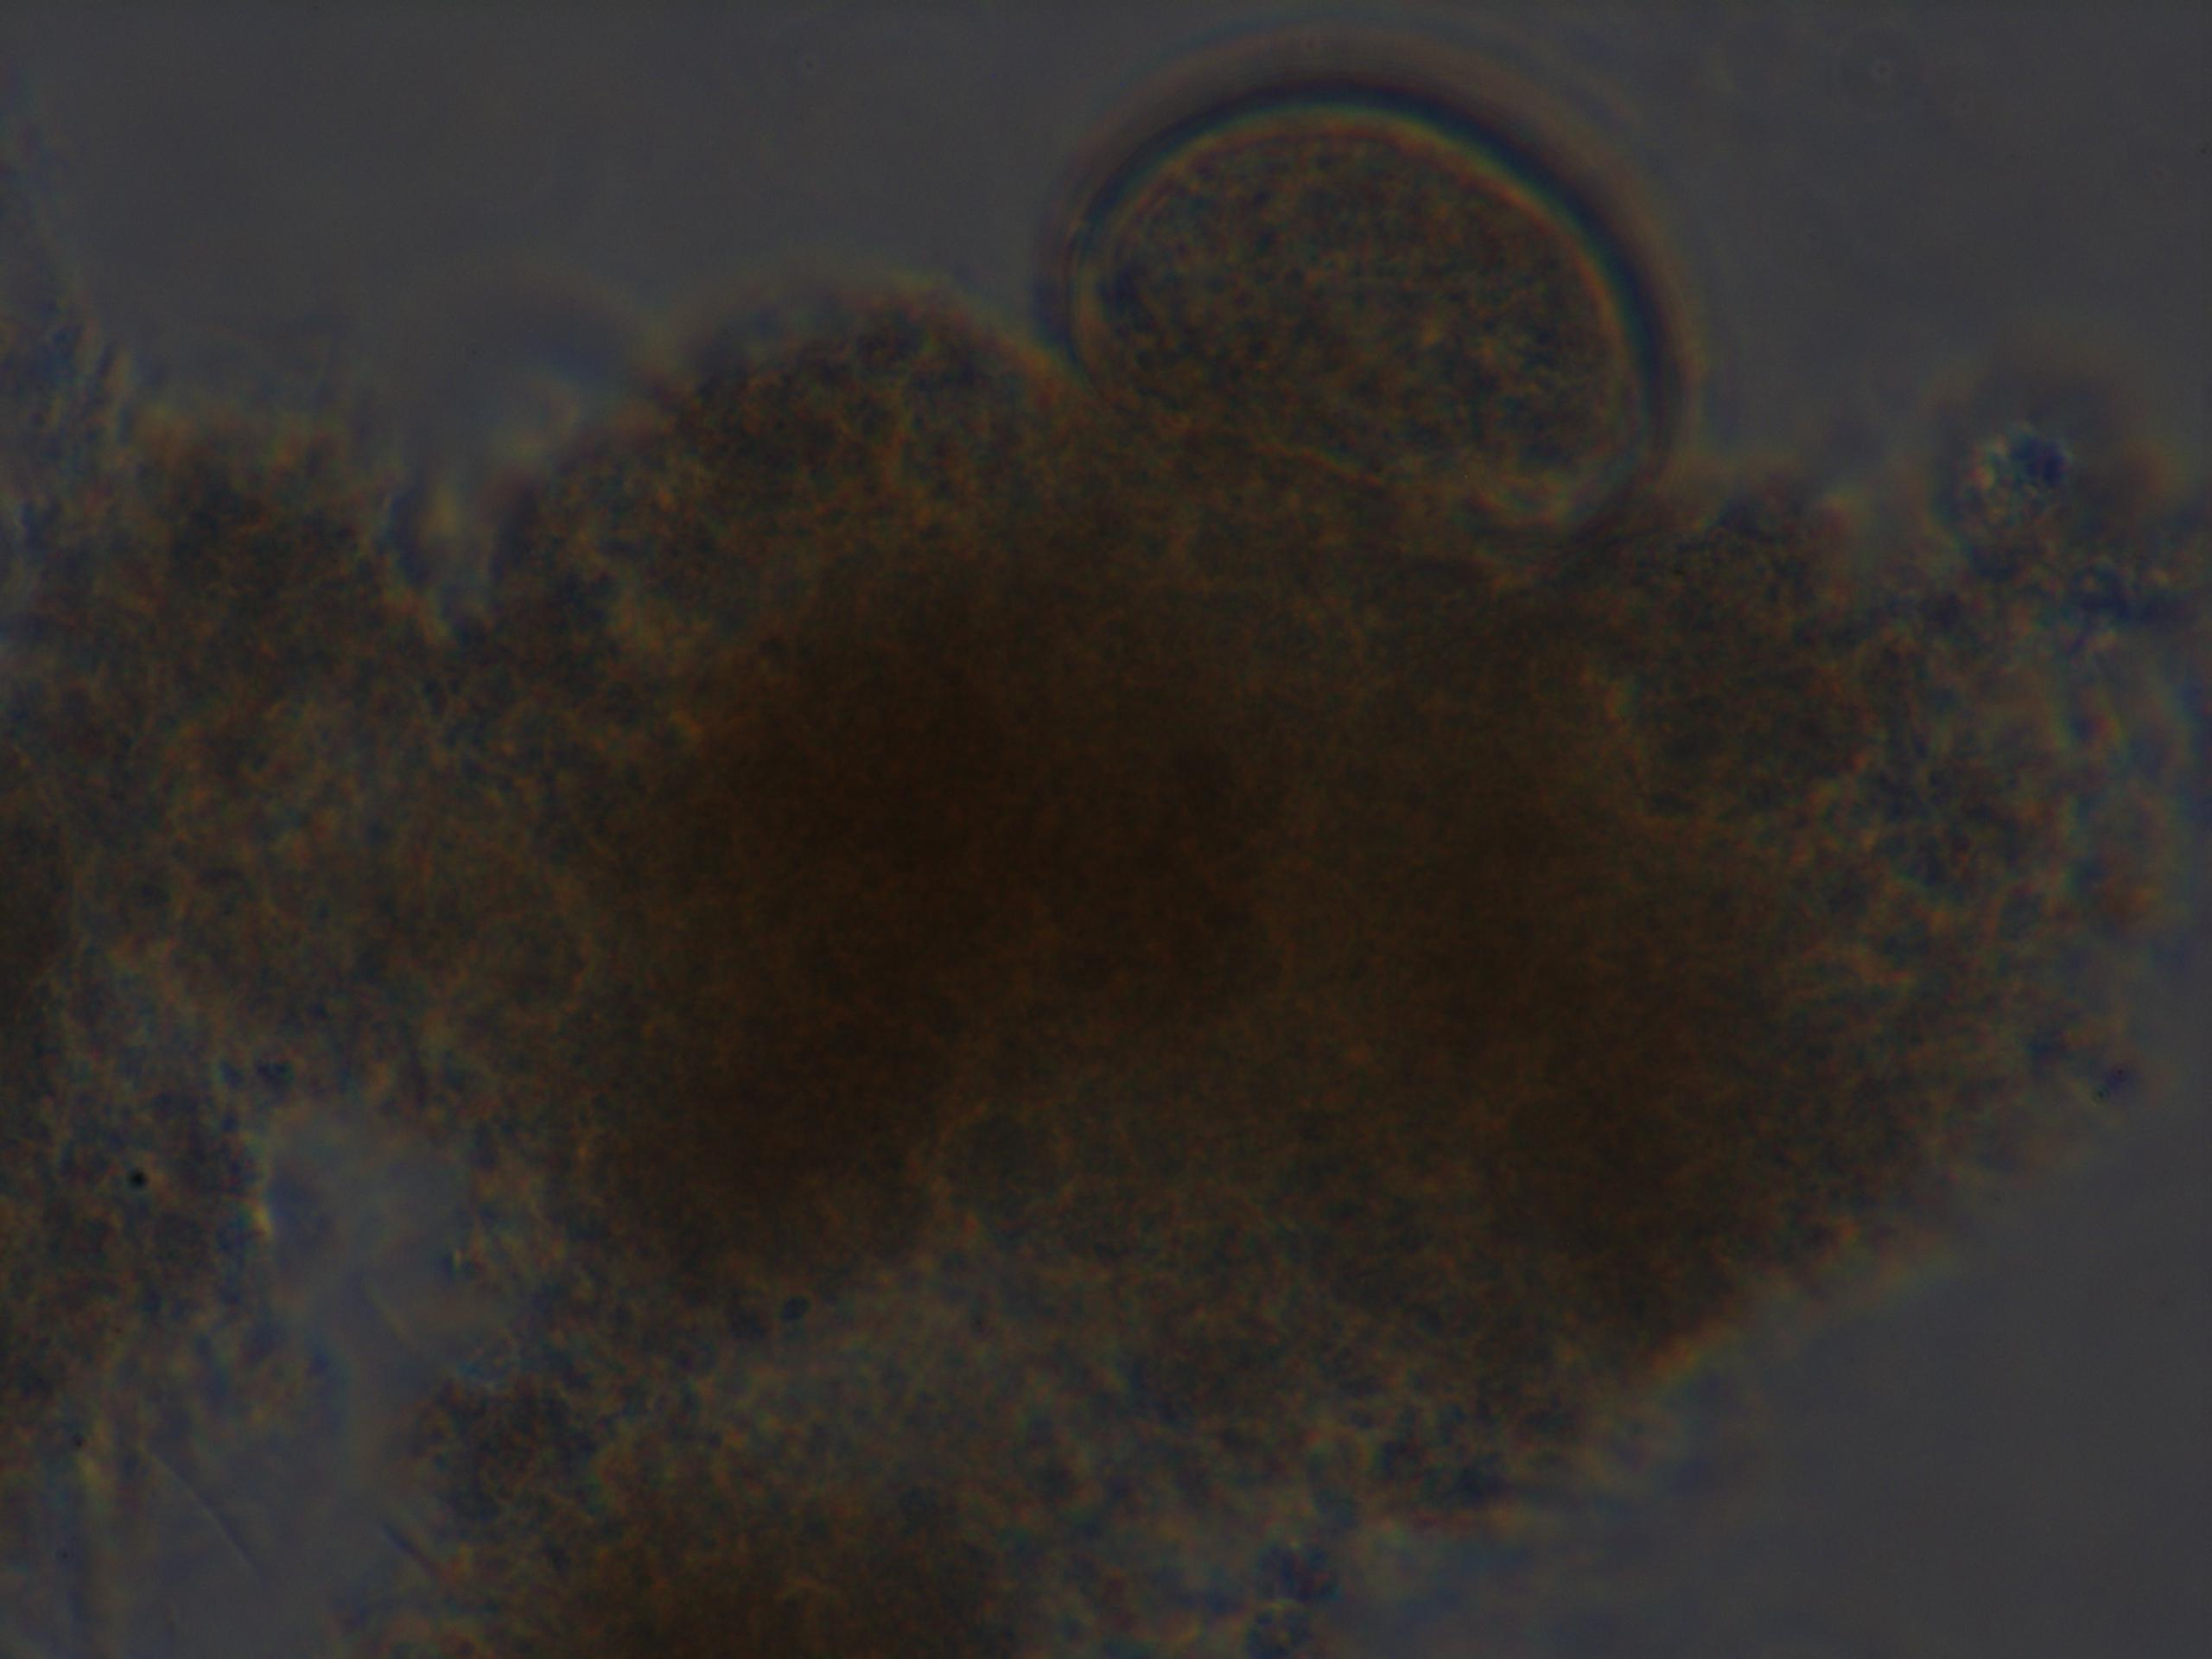protozoa: (1036, 44, 1702, 538)
